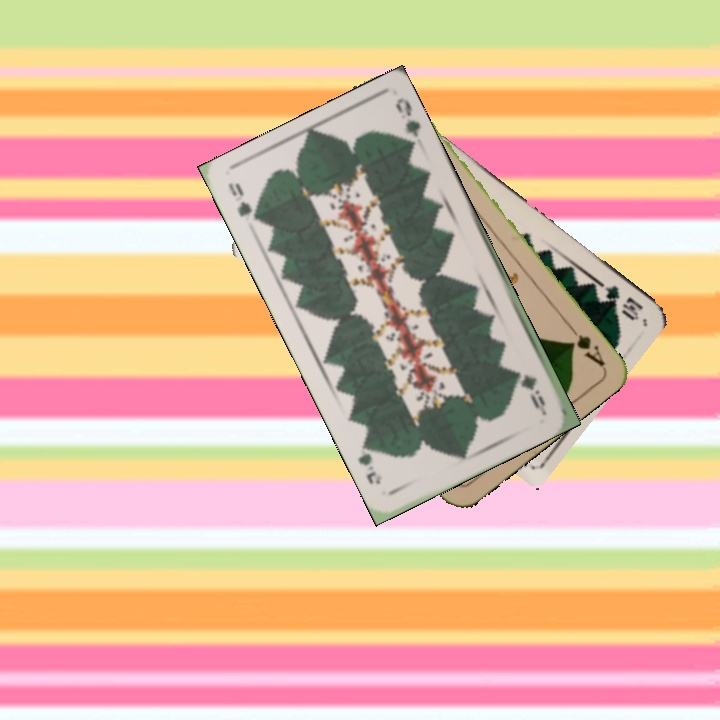G10: (590, 277, 646, 323)
G9: (224, 178, 264, 228), (519, 370, 548, 411)
GA: (564, 320, 607, 370)
